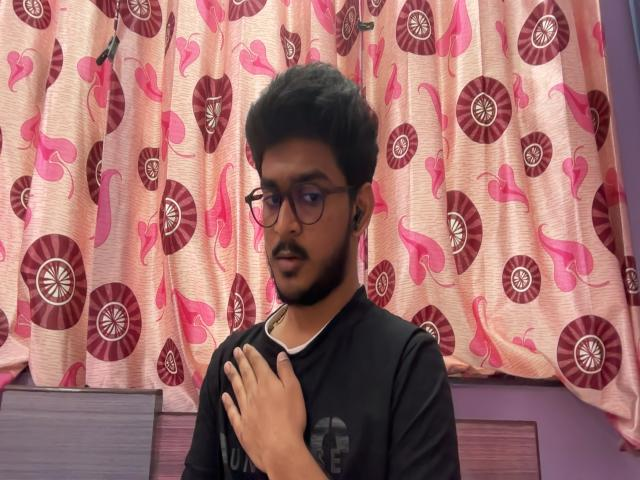Please: (212, 335, 346, 479)
